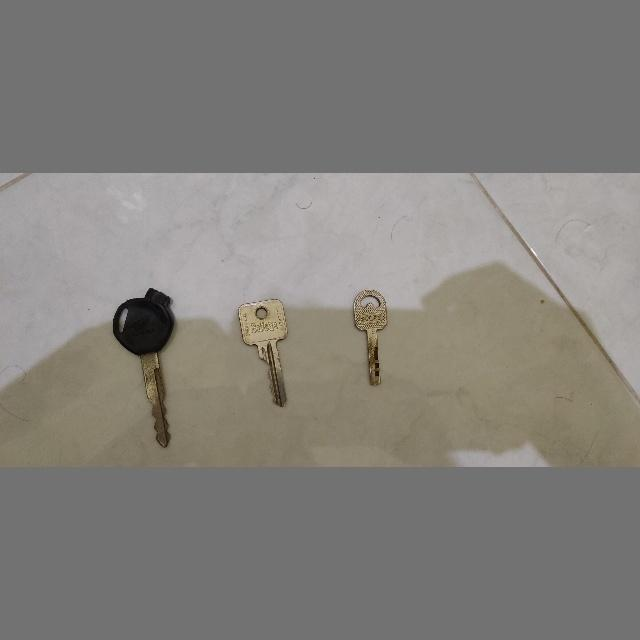Keys: (108, 284, 182, 448), (236, 296, 302, 412), (349, 286, 398, 388)
